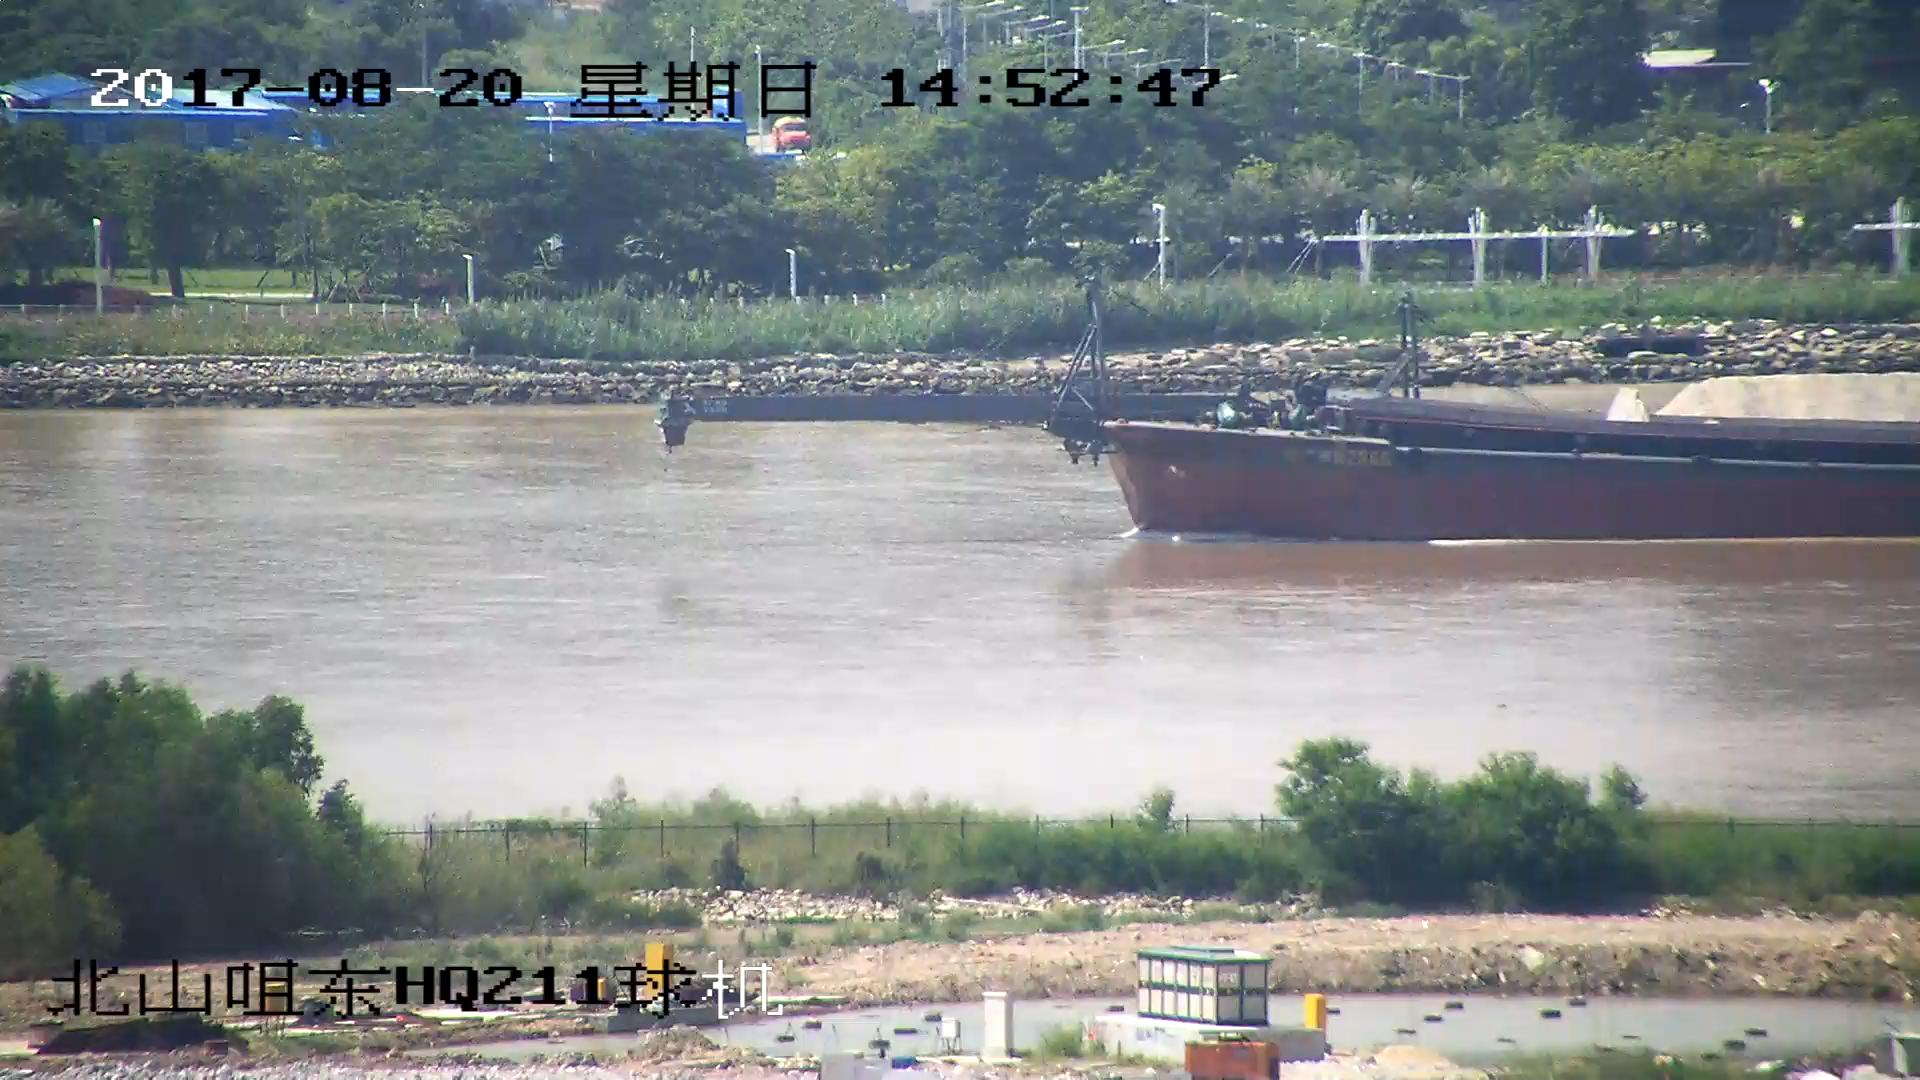bulk cargo carrier: (672, 295, 1920, 544)
ore carrier: (1019, 367, 1920, 476)
